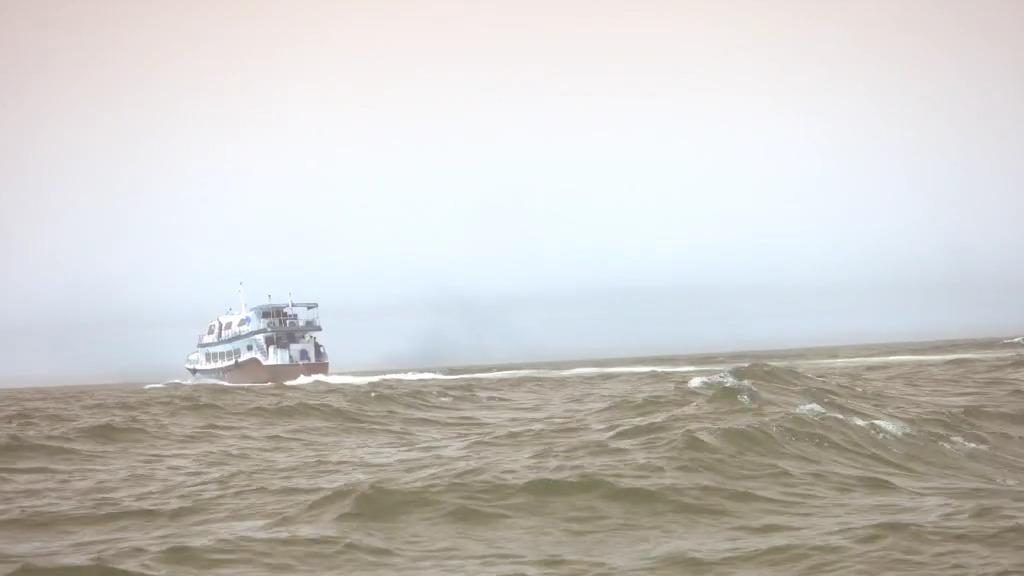PassengerShip: (183, 274, 337, 384)
